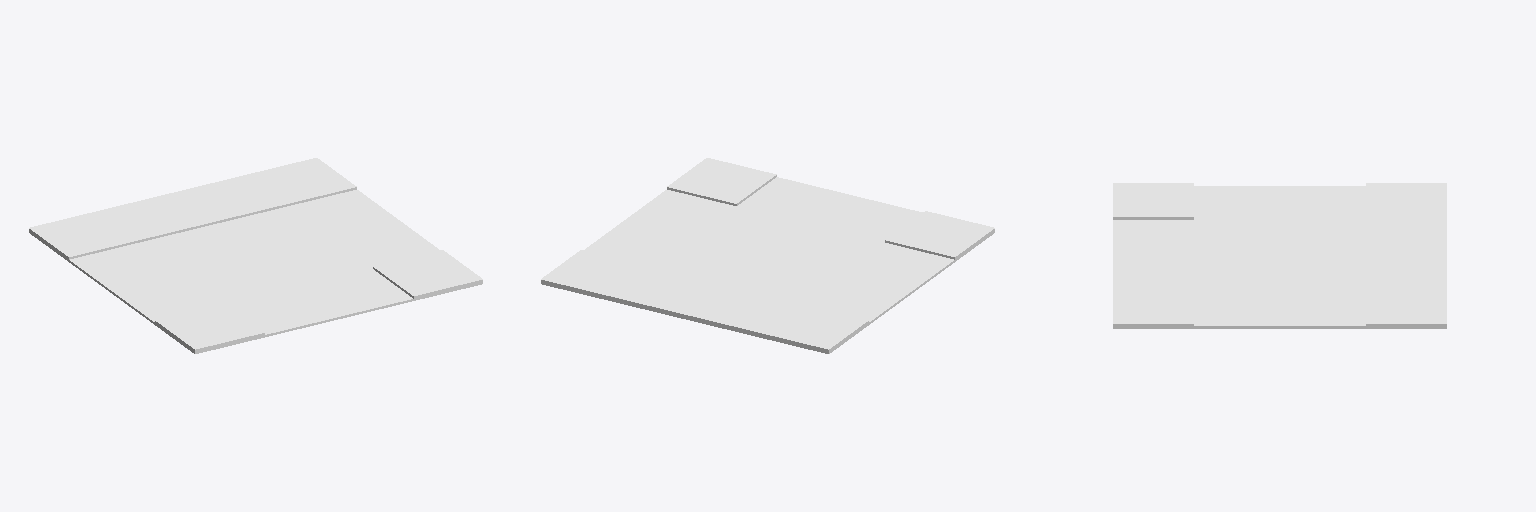
Rendered from Floor3-0.obj.
The picture shows the model from 3 angles: view 1: azimuth 30°, elevation 25°; view 2: azimuth 150°, elevation 25°; view 3: azimuth 270°, elevation 25°; orthographic projection.
Visible parts, largest first — view 1: Floor3-0; view 2: Floor3-0; view 3: Floor3-0.
Boxes of the visible parts, <box> form: Floor3-0: <box>29,158,482,353</box>; Floor3-0: <box>541,158,994,353</box>; Floor3-0: <box>1113,183,1446,328</box>.
Bounding box in the file's own units: 12.8 × 0.2 × 12.8.